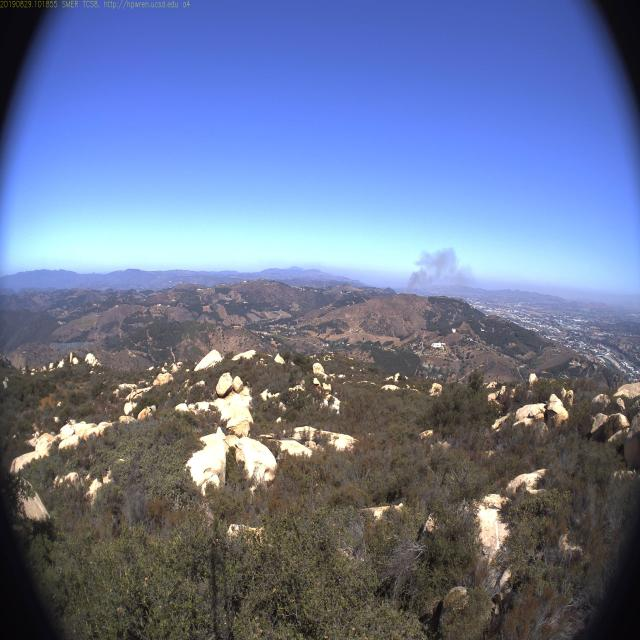smoke: (399, 252, 456, 304)
